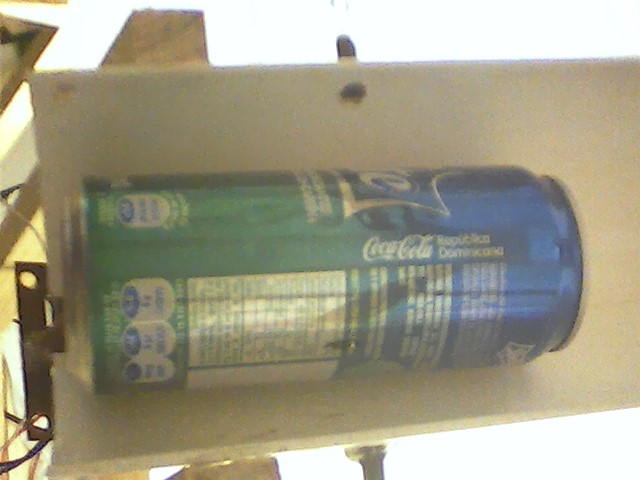lata: (51, 160, 596, 402)
